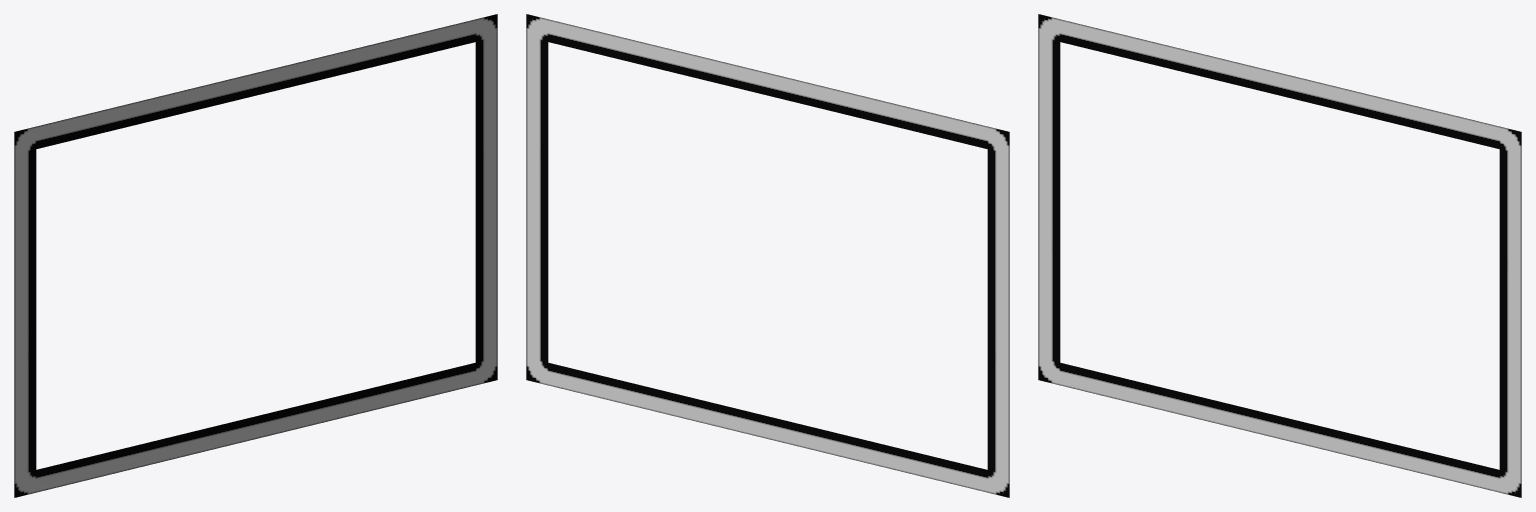
The picture shows the model from 3 angles, left to right: view 1: azimuth 30°, elevation 25°; view 2: azimuth 150°, elevation 25°; view 3: azimuth 330°, elevation 25°; orthographic projection.
Parts seen in each view (by area): view 1: Joint_0_Object_0; view 2: Joint_0_Object_0; view 3: Joint_0_Object_0.
Boxes of the visible parts, x1,y1,x2,y2 form: Joint_0_Object_0: [14, 14, 497, 497]; Joint_0_Object_0: [526, 14, 1009, 497]; Joint_0_Object_0: [1038, 14, 1521, 497].
Bounding box in the file's own units: 140 × 102 × 0.
Materials: 1 (1 with a texture image).
